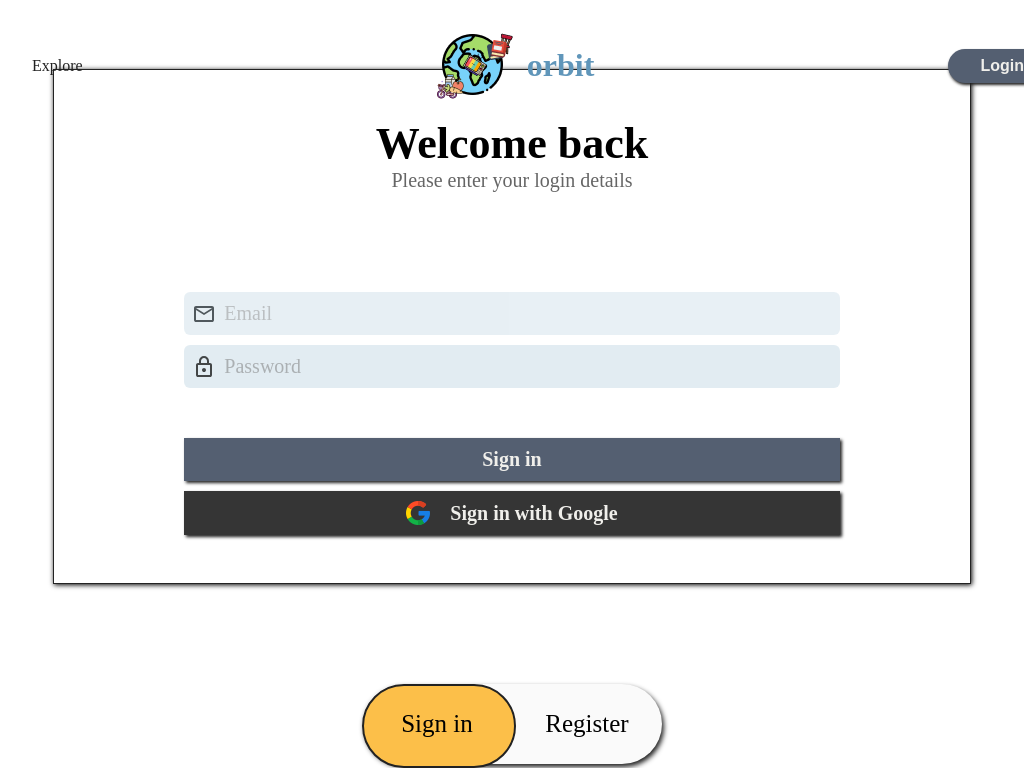
Scenario: Authentication Page › should be able to toggle between sign in and registration form
The width and height of the screenshot is (1036, 768).
(page scrolled)
Note: Toggle the registration form component
Click the checkbox with test id "formToggleButton" at (512, 724), box x1=362 y1=684 x2=662 y2=764
(page scrolled)
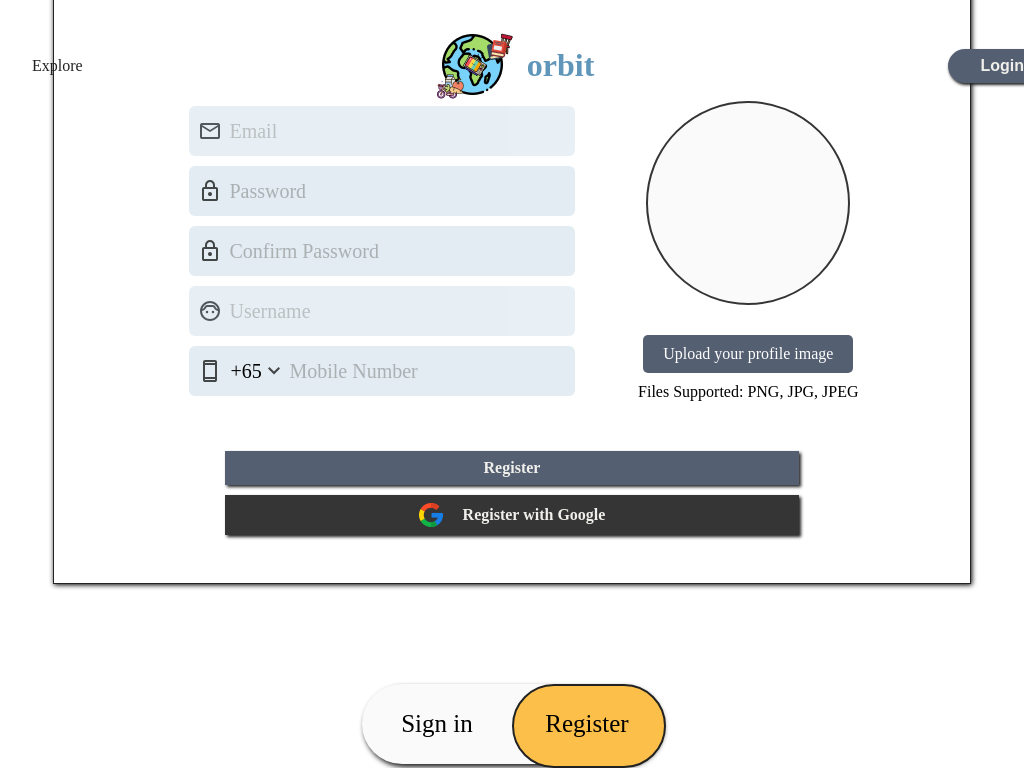
Expected: the form with test id "registrationForm" is shown, x1=189 y1=101 x2=858 y2=535
Note: Toggle the login form component
Click the checkbox with test id "formToggleButton" at (512, 724), box x1=362 y1=684 x2=662 y2=764
(page scrolled)
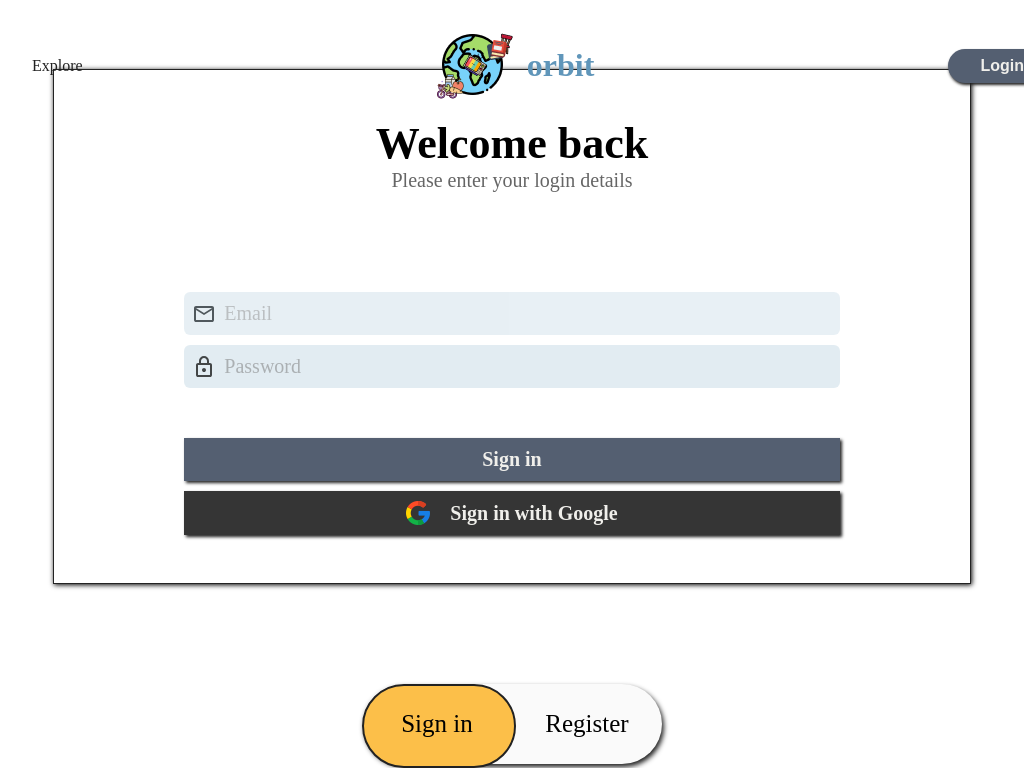
Expected: the form with test id "loginForm" is shown, x1=184 y1=292 x2=840 y2=535
